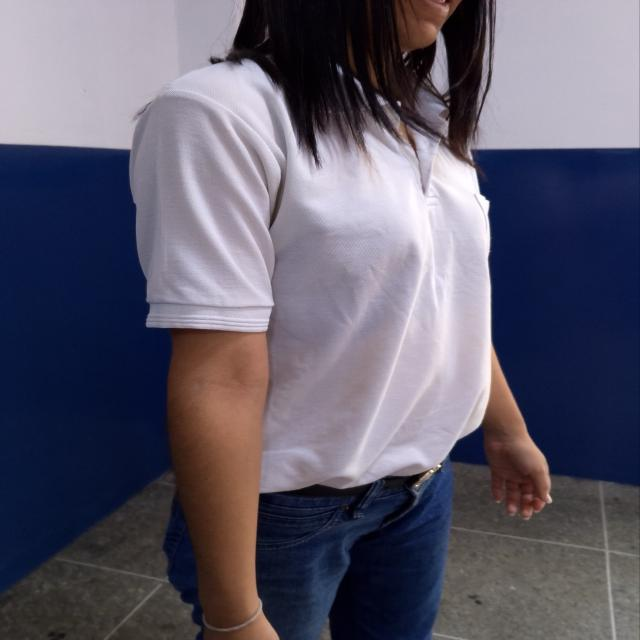pantalon_oscuro: (161, 455, 454, 640)
